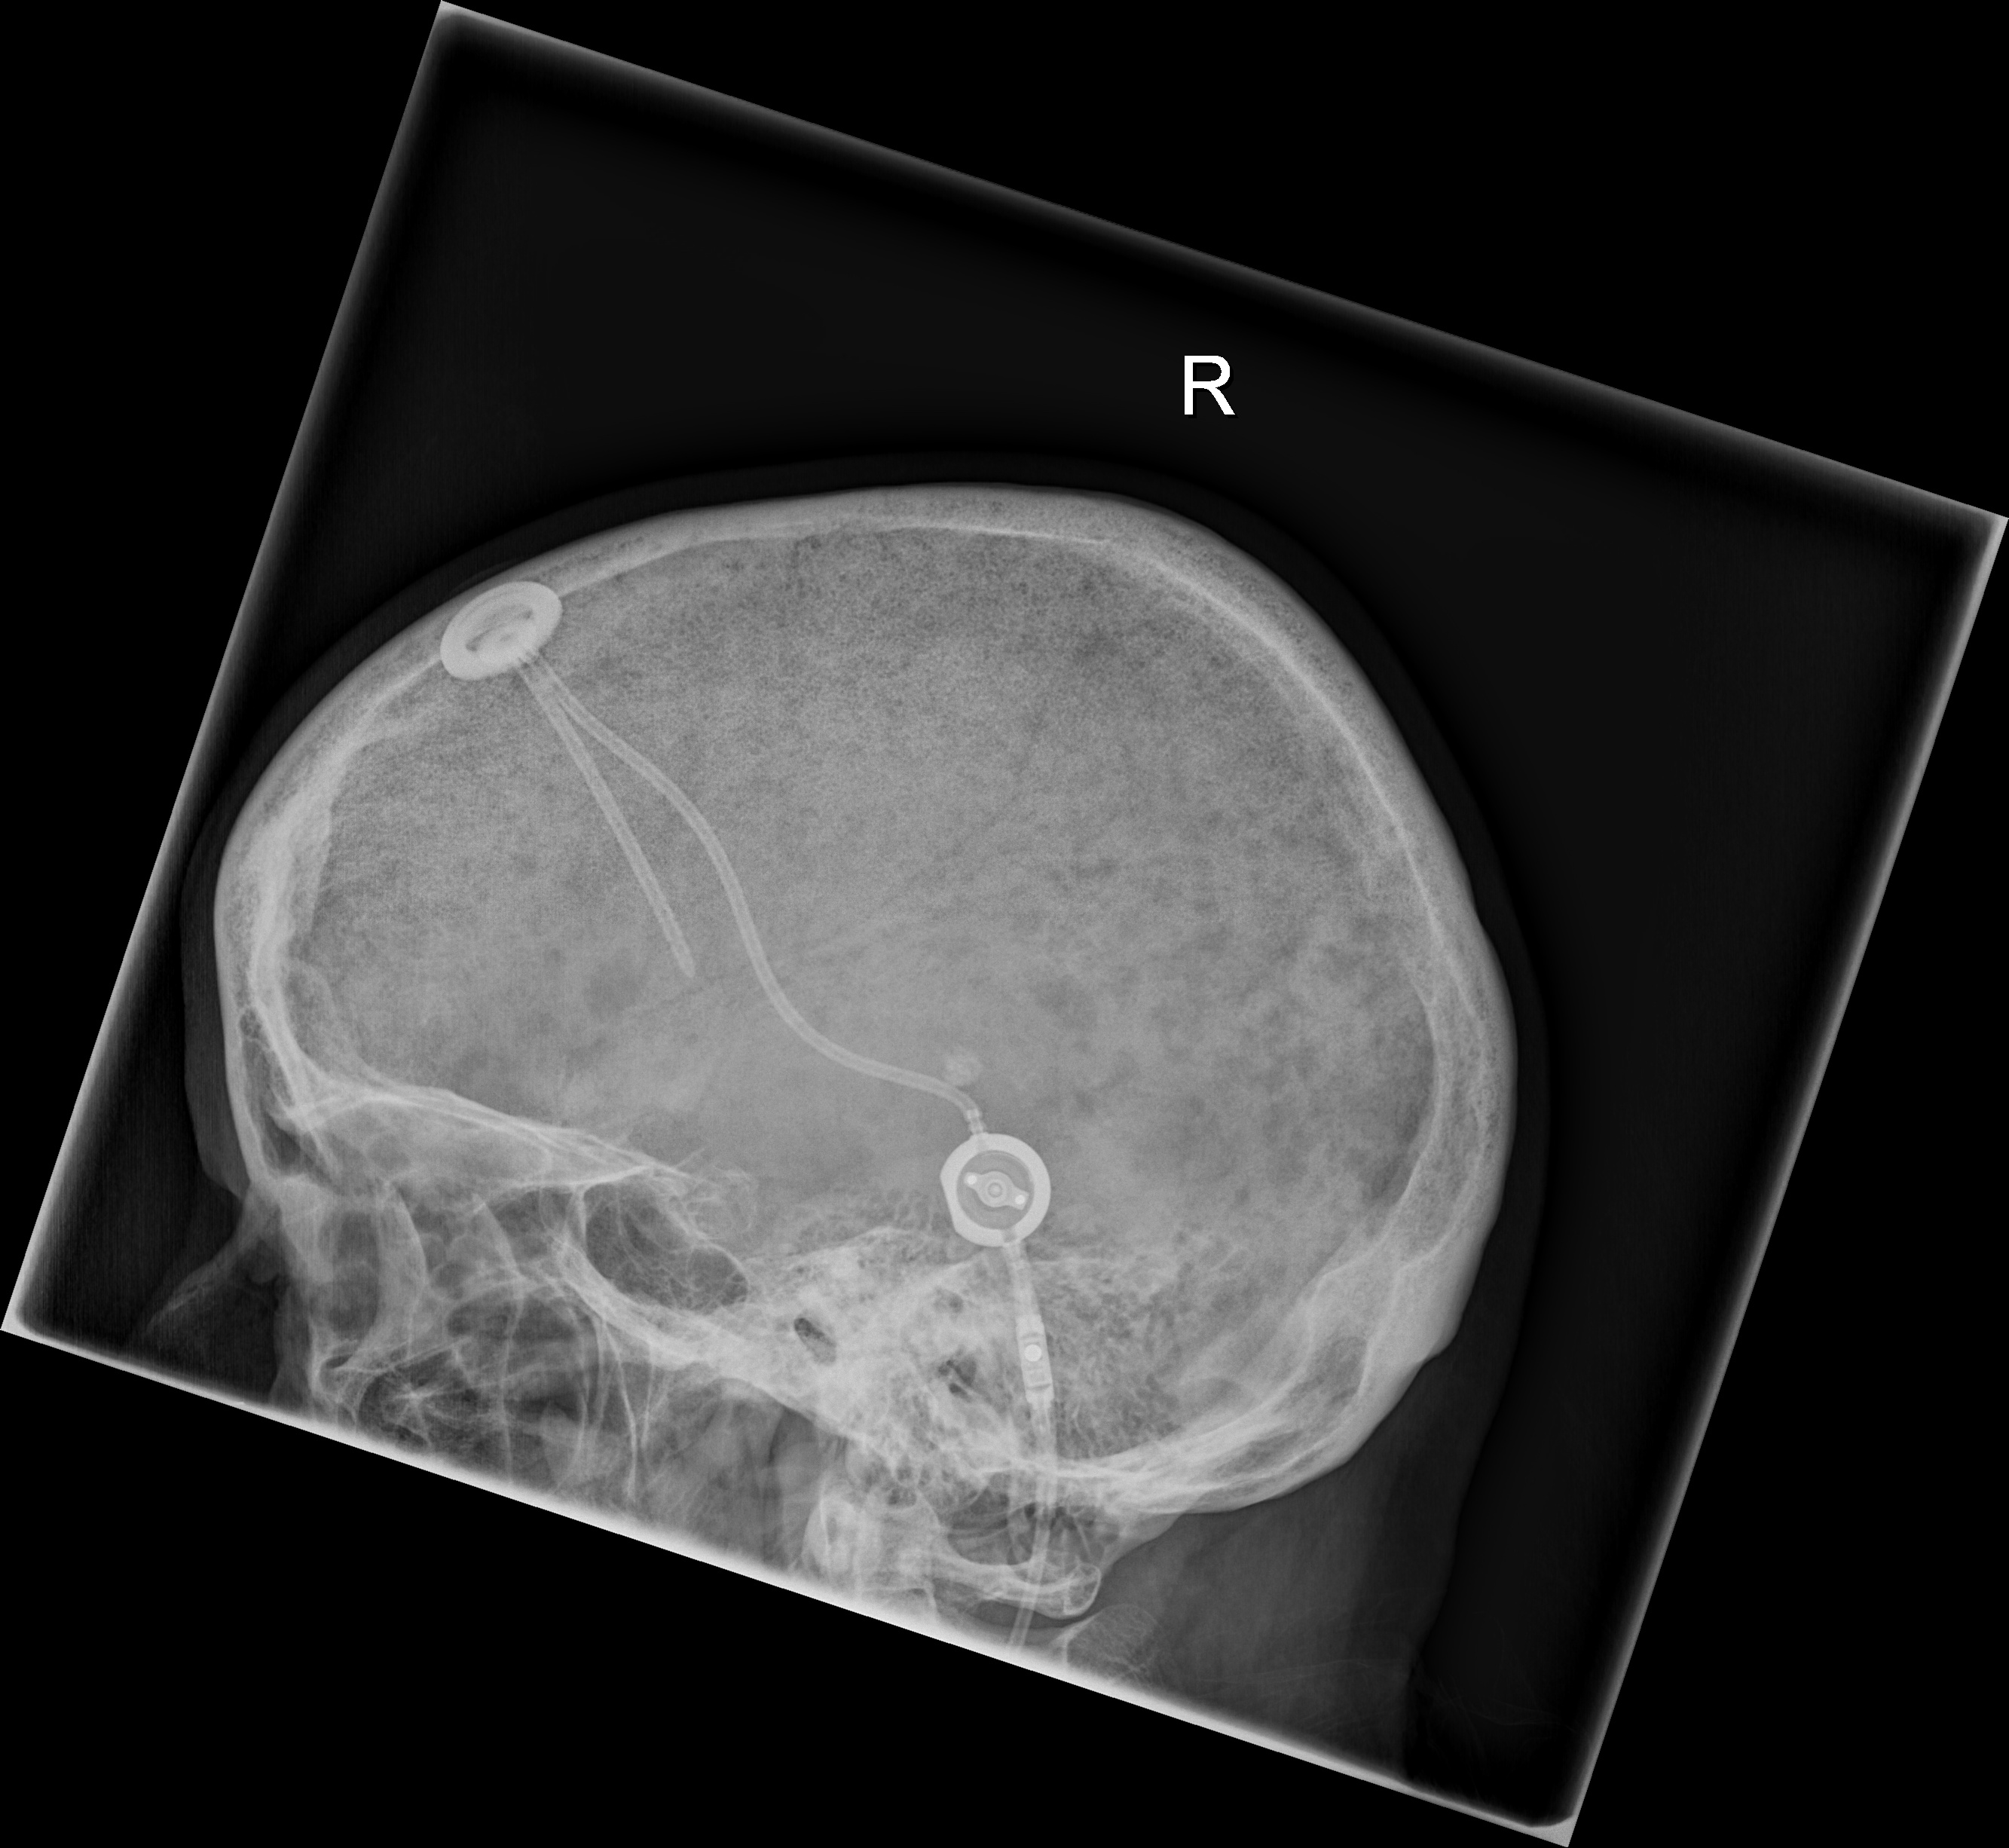proGAV: (940, 1123, 1055, 1262)
proGAV Gravitationseinheit: (1008, 1307, 1064, 1428)
